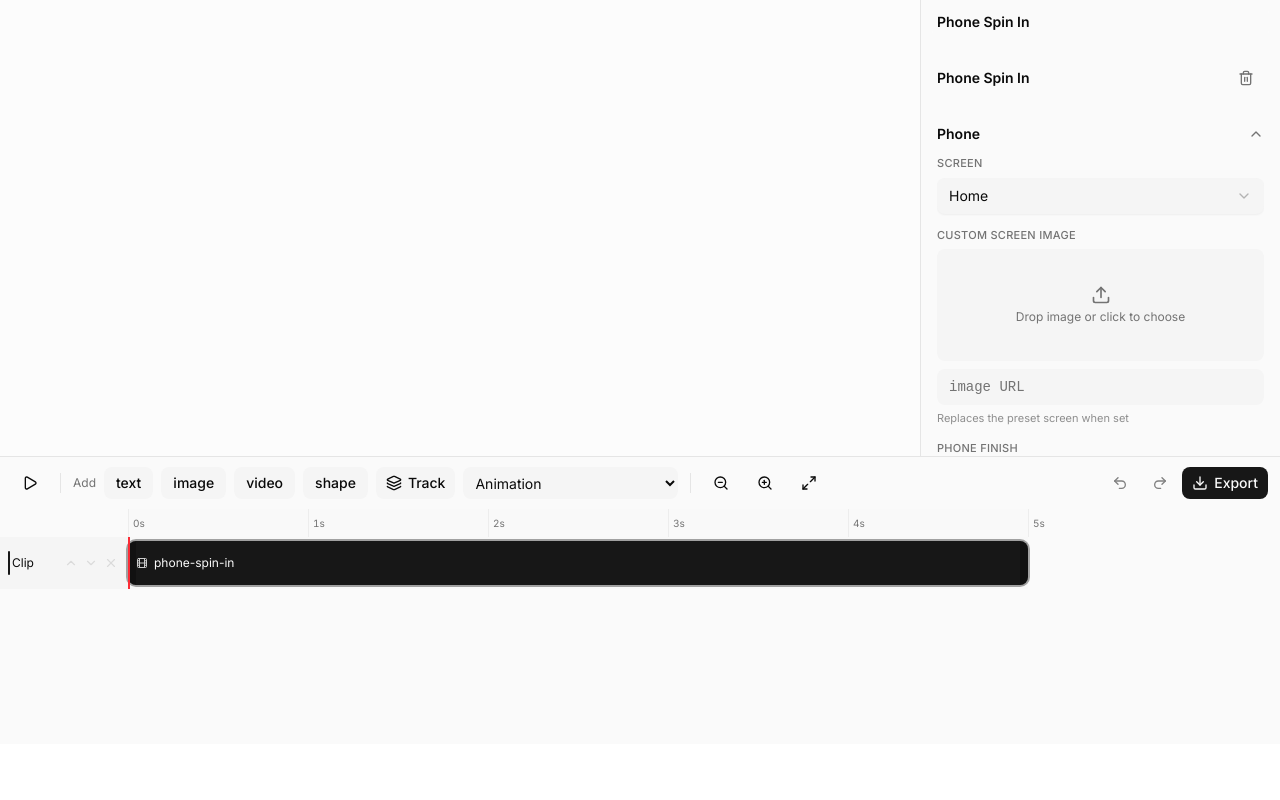
it: ClipTimelineEditor › inserts another built-in animation as a second composition block
Check: the number of buttons named "Clip element" is 1, box [128,541,1028,585]
Select "Scene Transition" in the dropdown named "Add animation" at [571, 483], box [464,467,678,499]
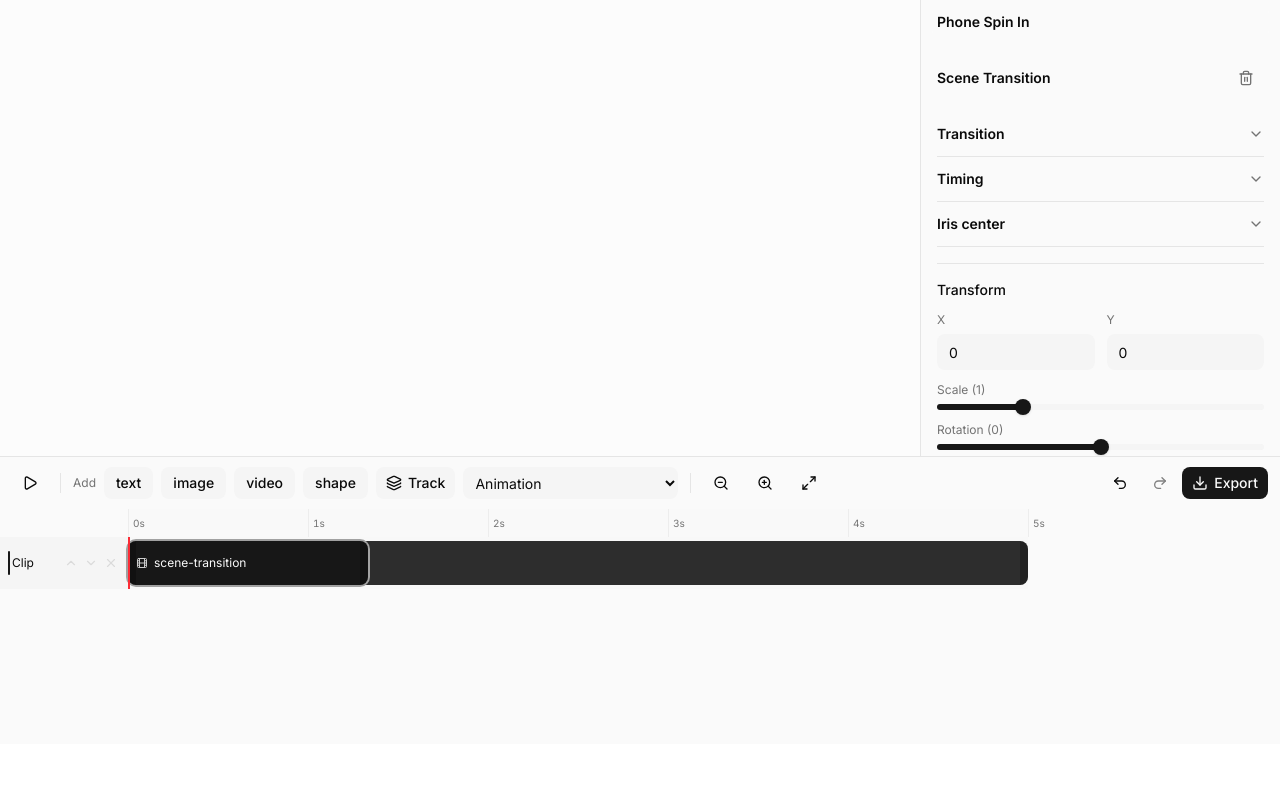
Check: the number of buttons named "Clip element" is 2, box [128,541,1028,585]; [128,541,368,585]
